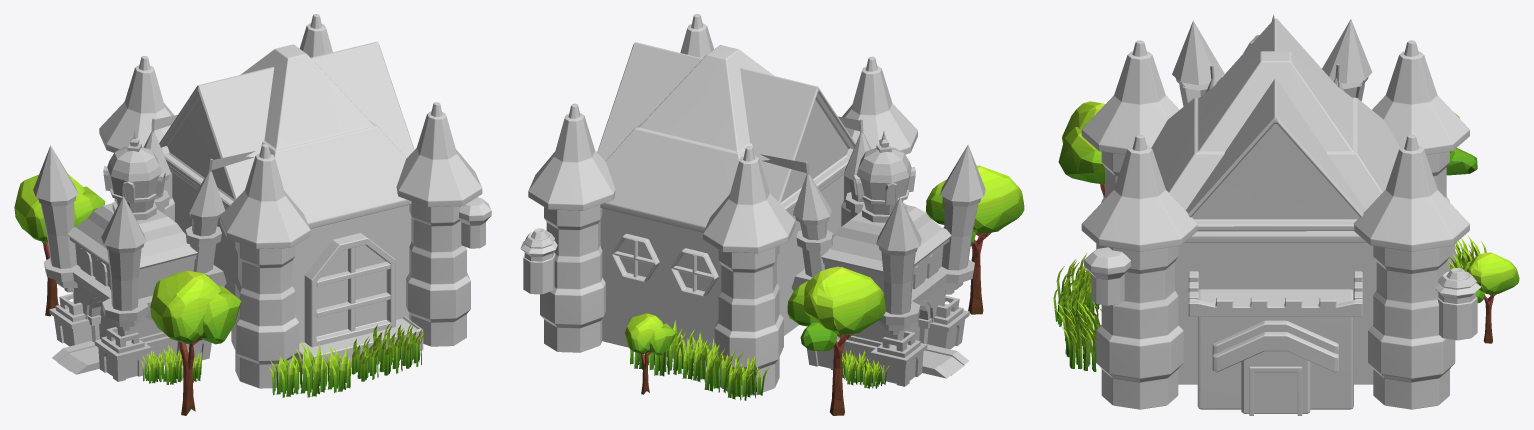
File: NewNewBase.fbx
3 views of the same model, side by side, from view 1: azimuth 30°, elevation 25°; view 2: azimuth 150°, elevation 25°; view 3: azimuth 270°, elevation 25° (orthographic). The views are drawn at different scales.
Parts seen in each view (by area): view 1: castle01.001, Roof, RoofTran1, Pillar.005, Pillar.004, Bulilding, pCube1.001, TREE, Spire.005, Spire.004, RoofTran, Spire.006 (+10 smaller); view 2: castle01.001, Roof, Bulilding, RoofTran1, Pillar.007, Pillar.006, TREE3, Spire.006, Spire.007, RoofTran, TREE, Spire.005 (+8 smaller); view 3: Roof, RoofTran, Bulilding, Pillar.007, Pillar.004, Bulilding2, Spire.004, Spire.007, Spire.005, Spire.006, castle01.001, Bulilding3 (+15 smaller).
Boxes of the visible parts, x1=… form: castle01.001: x1=33, y1=115, x2=255, y2=381; Roof: x1=168, y1=44, x2=411, y2=228; RoofTran1: x1=159, y1=67, x2=274, y2=207; Pillar.005: x1=231, y1=241, x2=299, y2=388; Pillar.004: x1=406, y1=201, x2=470, y2=346; Bulilding: x1=172, y1=172, x2=411, y2=343; pCube1.001: x1=304, y1=233, x2=395, y2=347; TREE: x1=150, y1=270, x2=241, y2=415; Spire.005: x1=220, y1=144, x2=310, y2=248; Spire.004: x1=396, y1=102, x2=482, y2=206; RoofTran: x1=311, y1=41, x2=414, y2=158; Spire.006: x1=99, y1=56, x2=174, y2=153; castle01.001: x1=760, y1=116, x2=985, y2=386; Roof: x1=600, y1=45, x2=844, y2=232; Bulilding: x1=600, y1=175, x2=843, y2=366; RoofTran1: x1=740, y1=68, x2=855, y2=211; Pillar.007: x1=540, y1=205, x2=605, y2=352; Pillar.006: x1=714, y1=245, x2=783, y2=395; TREE3: x1=787, y1=266, x2=885, y2=415; Spire.006: x1=703, y1=146, x2=795, y2=253; Spire.007: x1=528, y1=103, x2=615, y2=210; RoofTran: x1=597, y1=42, x2=702, y2=160; TREE: x1=926, y1=165, x2=1024, y2=314; Spire.005: x1=842, y1=56, x2=917, y2=156; Roof: x1=1151, y1=51, x2=1400, y2=242; RoofTran: x1=1186, y1=79, x2=1365, y2=231; Bulilding: x1=1175, y1=243, x2=1376, y2=384; Pillar.007: x1=1368, y1=246, x2=1455, y2=409; Pillar.004: x1=1096, y1=246, x2=1183, y2=409; Bulilding2: x1=1197, y1=289, x2=1353, y2=409; Spire.004: x1=1081, y1=135, x2=1197, y2=251; Spire.007: x1=1353, y1=135, x2=1469, y2=251; Spire.005: x1=1081, y1=40, x2=1179, y2=154; Spire.006: x1=1372, y1=40, x2=1469, y2=154; castle01.001: x1=1172, y1=14, x2=1372, y2=106; Bulilding3: x1=1241, y1=351, x2=1310, y2=413.
Size of the model in its own units: 2368 by 2340 by 1683.
